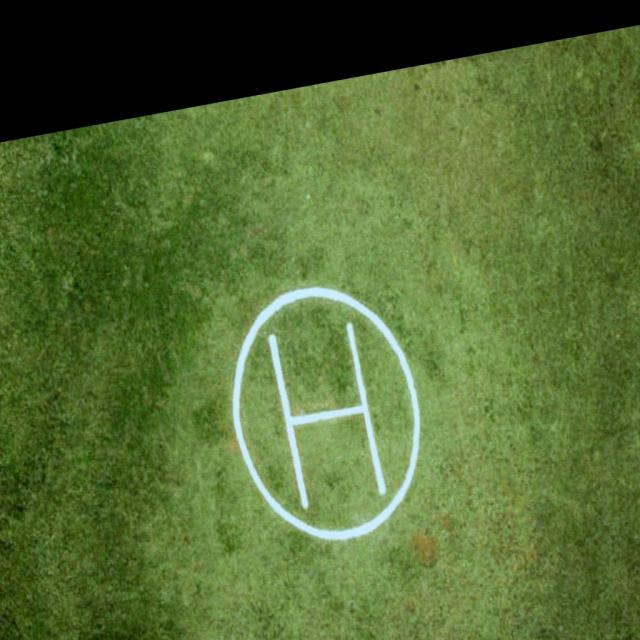helipad: (227, 280, 422, 540)
